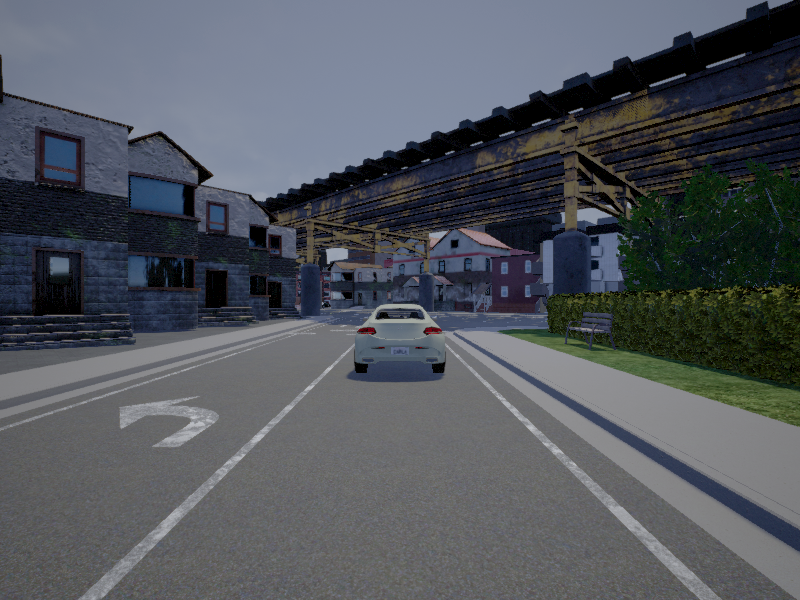Benign: (353, 303, 450, 375)
